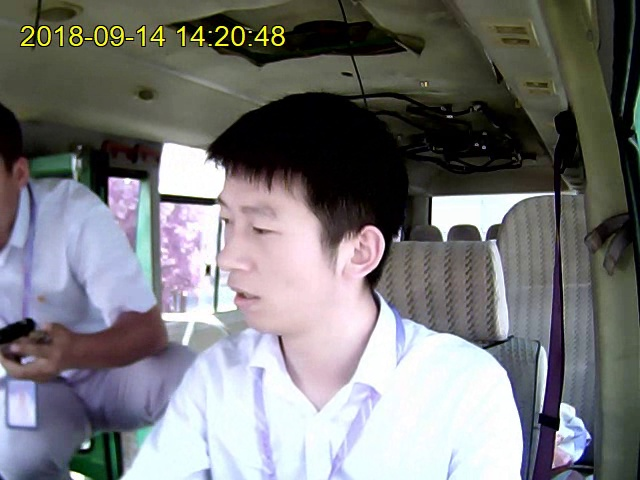closed_mouth: (226, 282, 261, 310)
